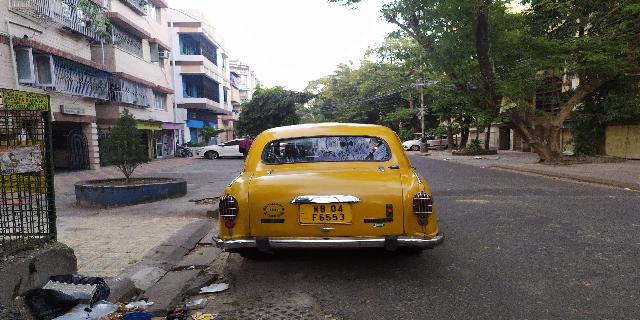Car: (213, 115, 443, 262), (191, 135, 248, 159)
